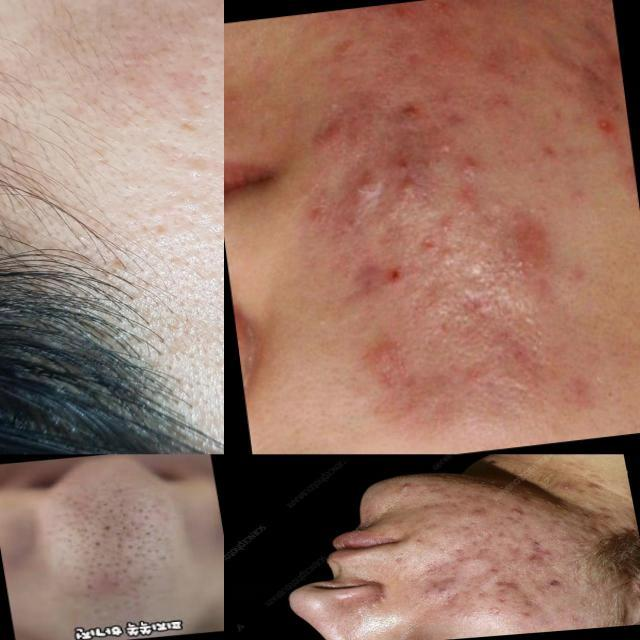Pimples: (104, 556, 144, 586), (88, 521, 126, 552), (121, 502, 160, 532), (124, 529, 164, 557), (389, 173, 421, 206), (588, 118, 622, 149), (488, 567, 526, 594), (63, 524, 97, 552), (502, 500, 538, 525), (543, 476, 583, 496), (95, 500, 128, 522), (348, 170, 378, 193), (515, 591, 542, 610), (398, 480, 424, 498), (384, 599, 406, 614), (468, 506, 486, 522), (430, 585, 450, 596)
